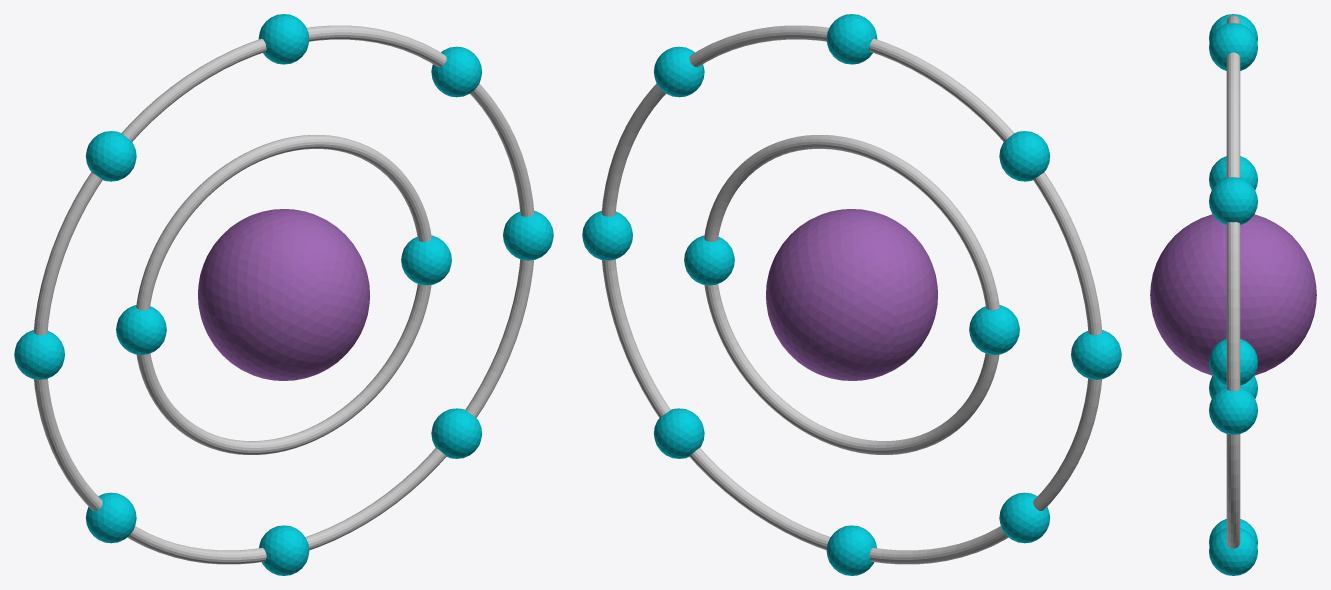
File: na-ion.glb
3 views of the same model, side by side, from view 1: azimuth 30°, elevation 25°; view 2: azimuth 150°, elevation 25°; view 3: azimuth 270°, elevation 25° (orthographic). The views are drawn at different scales.
Visible parts, largest first — view 1: Nucleo_Na_mais, Camada_2, Camada_1, Eletron_C2_4, Eletron_C2_8, Eletron_C1_2, Eletron_C2_5, Eletron_C2_1, Eletron_C2_3, Eletron_C1_1, Eletron_C2_7, Eletron_C2_6 (+1 smaller); view 2: Nucleo_Na_mais, Camada_2, Camada_1, Eletron_C2_4, Eletron_C2_8, Eletron_C1_2, Eletron_C2_5, Eletron_C2_1, Eletron_C2_3, Eletron_C1_1, Eletron_C2_7, Eletron_C2_6 (+1 smaller); view 3: Nucleo_Na_mais, Camada_2, Eletron_C2_2, Eletron_C2_1, Eletron_C2_3, Eletron_C2_8, Eletron_C1_1, Eletron_C2_5, Eletron_C2_6, Eletron_C2_4, Eletron_C2_7.
Part boxes in pixels (x1=…): Nucleo_Na_mais: x1=198, y1=209, x2=369, y2=380; Camada_2: x1=33, y1=25, x2=534, y2=564; Camada_1: x1=136, y1=135, x2=431, y2=454; Eletron_C2_4: x1=85, y1=131, x2=136, y2=181; Eletron_C2_8: x1=431, y1=408, x2=482, y2=458; Eletron_C1_2: x1=116, y1=305, x2=166, y2=354; Eletron_C2_5: x1=14, y1=330, x2=64, y2=379; Eletron_C2_1: x1=503, y1=210, x2=553, y2=260; Eletron_C2_3: x1=258, y1=14, x2=309, y2=64; Eletron_C1_1: x1=401, y1=235, x2=451, y2=285; Eletron_C2_7: x1=259, y1=525, x2=309, y2=575; Eletron_C2_6: x1=85, y1=492, x2=136, y2=543; Nucleo_Na_mais: x1=766, y1=209, x2=937, y2=380; Camada_2: x1=601, y1=25, x2=1102, y2=564; Camada_1: x1=704, y1=135, x2=999, y2=454; Eletron_C2_4: x1=999, y1=131, x2=1050, y2=181; Eletron_C2_8: x1=653, y1=408, x2=704, y2=458; Eletron_C1_2: x1=969, y1=305, x2=1019, y2=354; Eletron_C2_5: x1=1071, y1=330, x2=1121, y2=379; Eletron_C2_1: x1=582, y1=210, x2=632, y2=260; Eletron_C2_3: x1=826, y1=14, x2=877, y2=64; Eletron_C1_1: x1=684, y1=235, x2=734, y2=285; Eletron_C2_7: x1=826, y1=525, x2=876, y2=575; Eletron_C2_6: x1=999, y1=492, x2=1050, y2=543; Nucleo_Na_mais: x1=1150, y1=214, x2=1316, y2=375; Camada_2: x1=1226, y1=15, x2=1240, y2=548; Eletron_C2_2: x1=1209, y1=177, x2=1257, y2=224; Eletron_C2_1: x1=1209, y1=387, x2=1257, y2=434; Eletron_C2_3: x1=1209, y1=23, x2=1257, y2=70; Eletron_C2_8: x1=1209, y1=528, x2=1257, y2=575; Eletron_C1_1: x1=1209, y1=339, x2=1257, y2=385; Eletron_C2_5: x1=1209, y1=156, x2=1257, y2=189; Eletron_C2_6: x1=1209, y1=375, x2=1257, y2=398; Eletron_C2_4: x1=1209, y1=14, x2=1257, y2=42; Eletron_C2_7: x1=1209, y1=519, x2=1257, y2=546.
Size of the model in its own units: 1.57 by 1.57 by 0.44.
